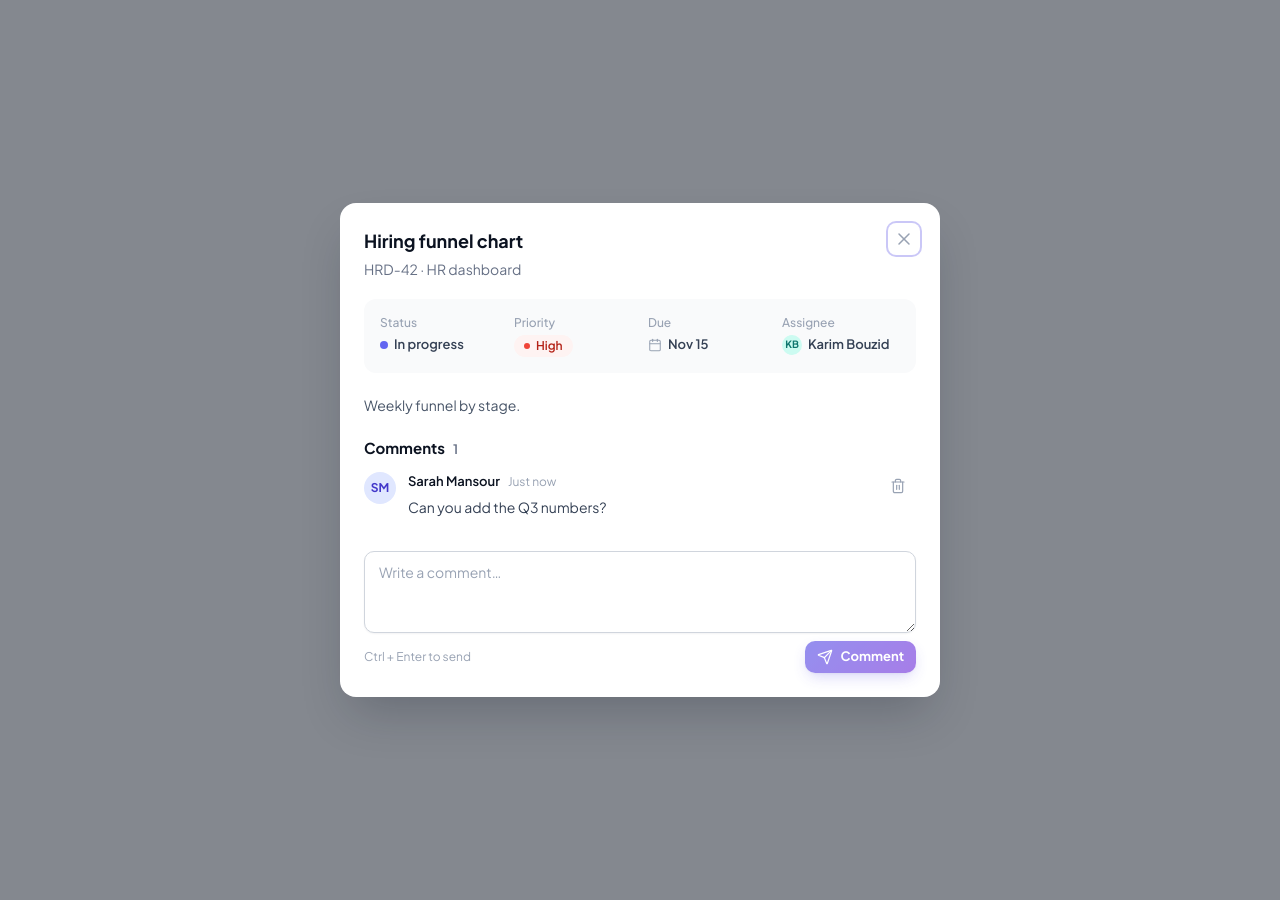
Test case: task details and comments › deletes a comment the user may delete
Click the button named "Delete comment by Sarah Mansour" at (898,486), box [884,472,912,500]
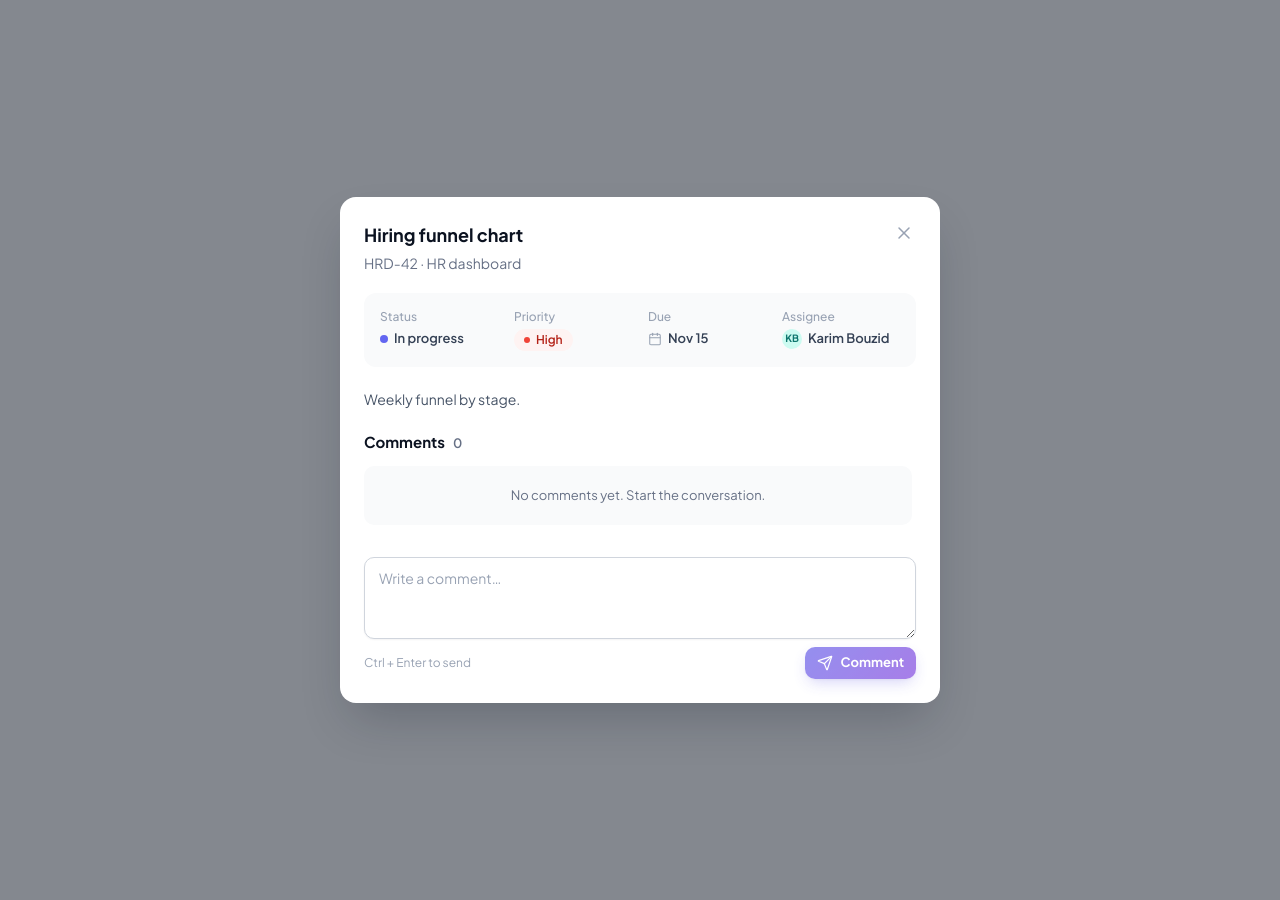
Expected: the text "No comments yet. Start the conversation." is shown, [364,466,912,525]
